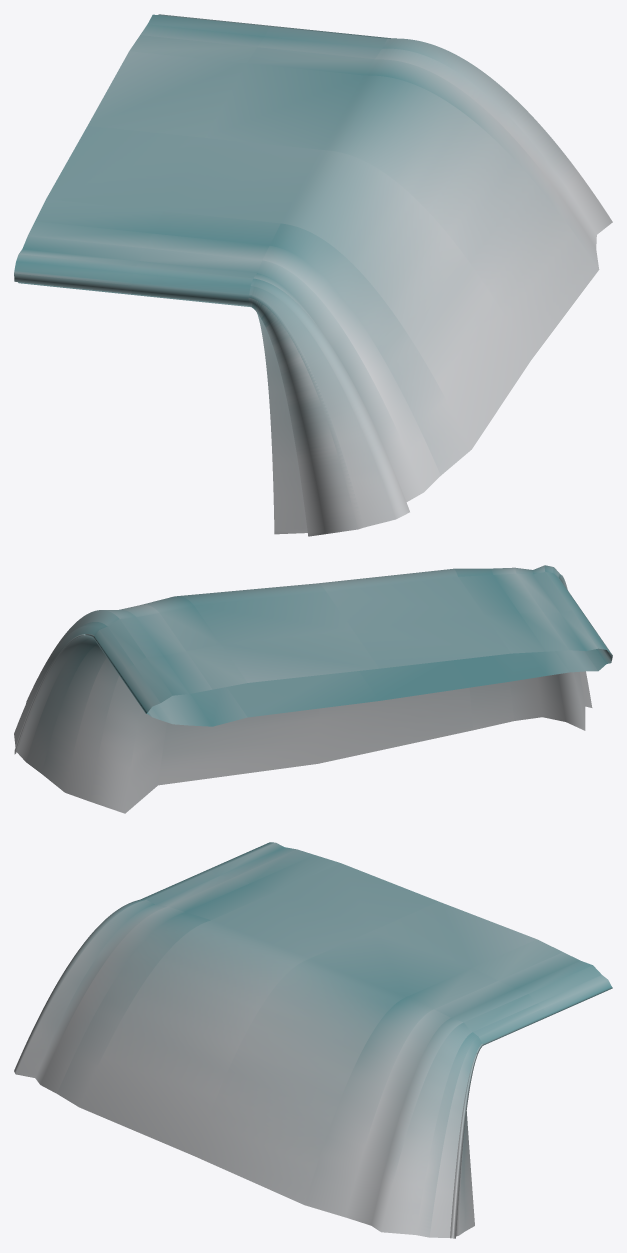
Rendered from TRN4_Cascade_0.fbx.
3 views of the same model, one above another, from view 1: azimuth 30°, elevation 25°; view 2: azimuth 150°, elevation 25°; view 3: azimuth 270°, elevation 25° (orthographic). The views are drawn at different scales.
Visible parts, largest first — view 1: TRN4_Cascade_0.001; view 2: TRN4_Cascade_0.001; view 3: TRN4_Cascade_0.001.
Part boxes in pixels (left/top/right/bottom): TRN4_Cascade_0.001: left=14, top=14, right=612, bottom=536; TRN4_Cascade_0.001: left=14, top=565, right=612, bottom=813; TRN4_Cascade_0.001: left=14, top=842, right=612, bottom=1238.
Bounding box in the file's own units: 4.51 × 1.6 × 4.48.
